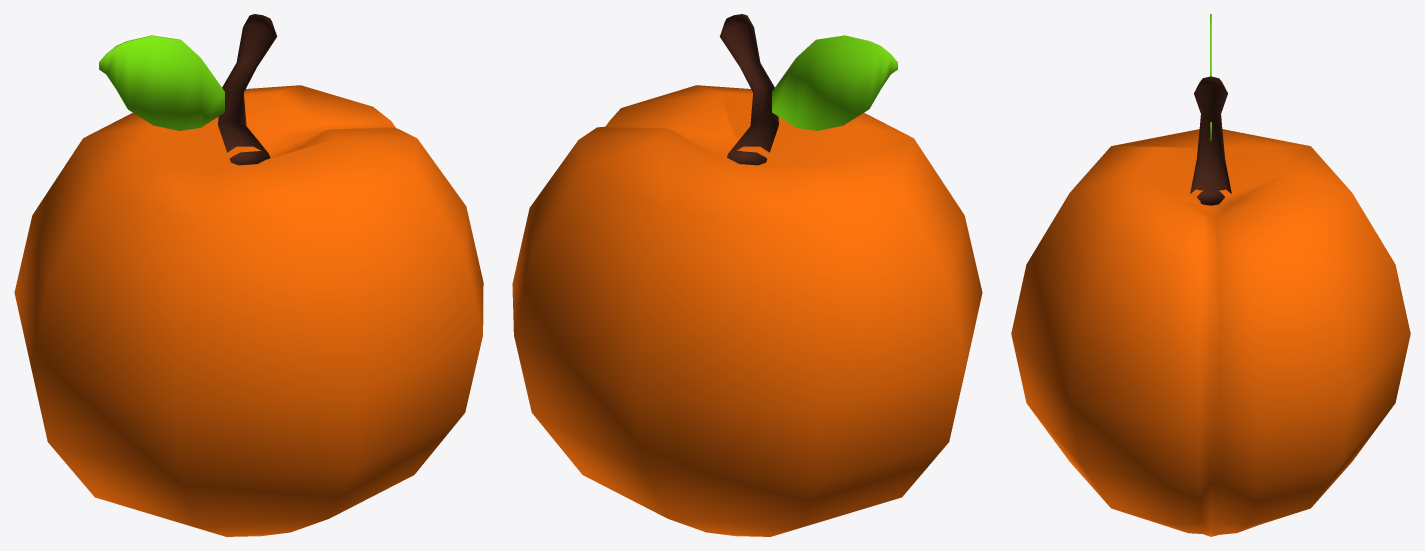
File: peach.glb
3 renders of one model, left to right at view 1: azimuth 30°, elevation 25°; view 2: azimuth 150°, elevation 25°; view 3: azimuth 270°, elevation 25°, orthographic. The views are drawn at different scales.
Parts seen in each view (by area): view 1: Sphere.013; view 2: Sphere.013; view 3: Sphere.013.
Part boxes in pixels (<box>): Sphere.013: <box>14,14,483,536</box>; Sphere.013: <box>512,14,982,536</box>; Sphere.013: <box>1011,14,1410,536</box>.
Size of the model in its own units: 2.16 by 2.56 by 2.
